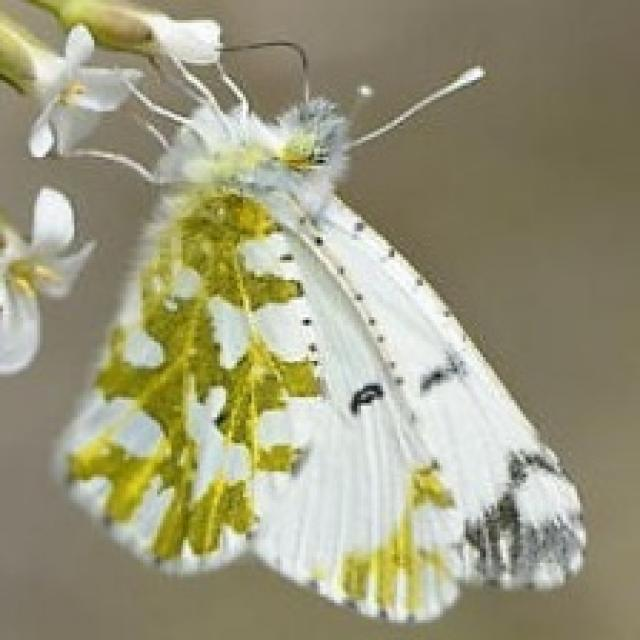butterfly: (40, 34, 589, 626)
